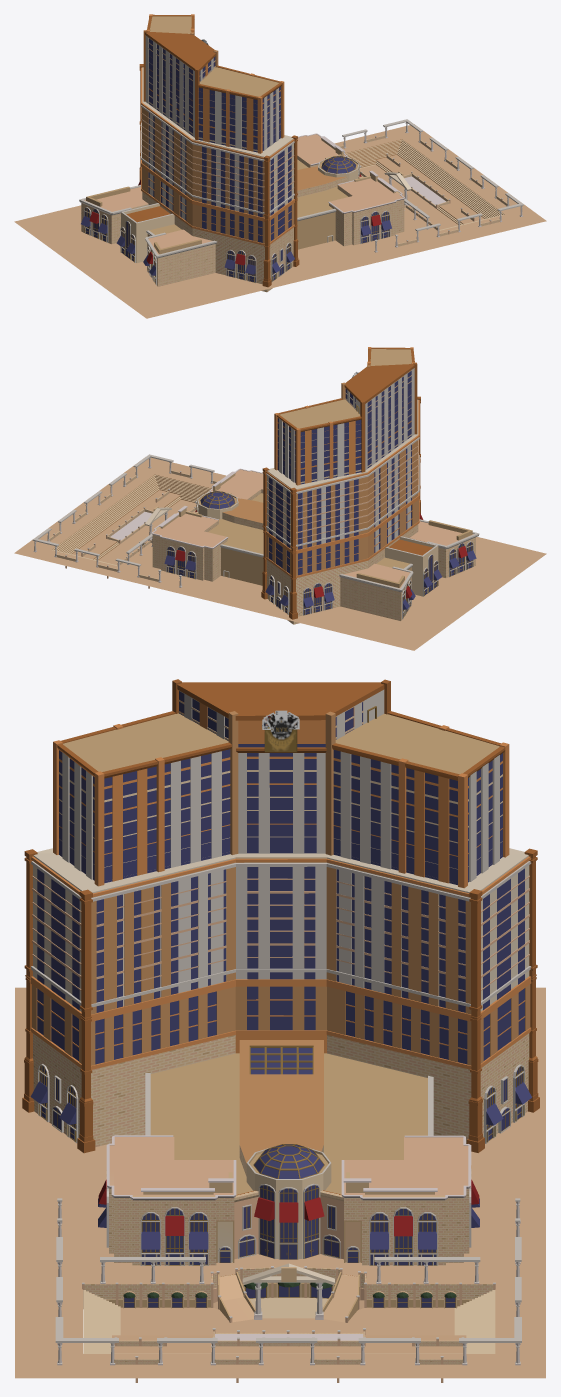
Rendered from CasinoExterior.fbx.
3 renders of one model, top to bottom at view 1: azimuth 30°, elevation 25°; view 2: azimuth 150°, elevation 25°; view 3: azimuth 270°, elevation 25°, orthographic. The views are drawn at different scales.
Parts seen in each view (by area): view 1: Plane.001; view 2: Plane.001; view 3: Plane.001.
Part boxes in pixels (x1,y1,x2,y2): Plane.001: (14,14,546,318); Plane.001: (14,347,546,650); Plane.001: (15,679,545,1382).
Bounding box in the file's own units: 19285 × 10392 × 11072.
